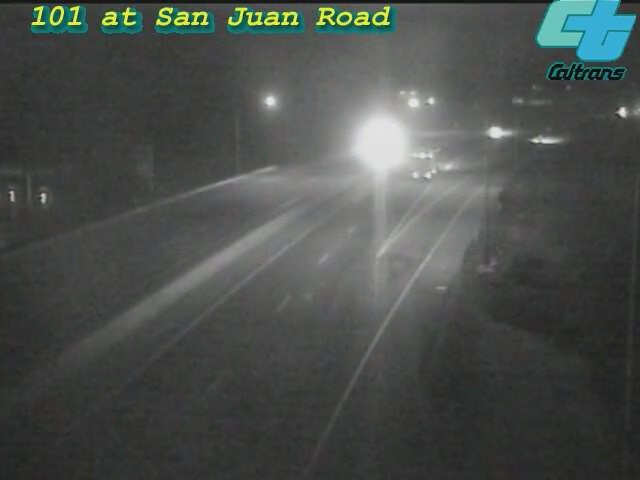vehicle: (386, 124, 466, 204), (348, 120, 398, 170), (468, 107, 518, 157), (516, 116, 566, 166)
